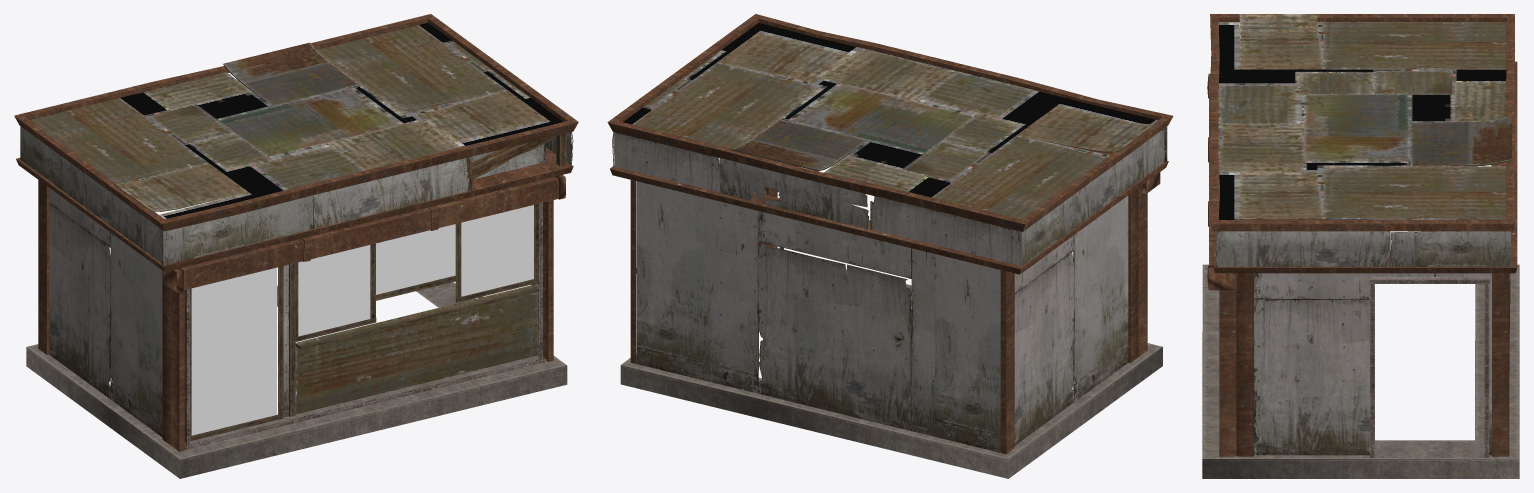
Rendered from rentable_shop_b_exterior.glb.
3 renders of one model, left to right at view 1: azimuth 30°, elevation 25°; view 2: azimuth 150°, elevation 25°; view 3: azimuth 270°, elevation 25°, orthographic. The views are drawn at different scales.
Visible parts, largest first — view 1: rentable_shop_B_exterior_LOD0; view 2: rentable_shop_B_exterior_LOD0; view 3: rentable_shop_B_exterior_LOD0.
Part boxes in pixels (left/top/right/bottom): rentable_shop_B_exterior_LOD0: left=14, top=14, right=578, bottom=478; rentable_shop_B_exterior_LOD0: left=607, top=14, right=1173, bottom=478; rentable_shop_B_exterior_LOD0: left=1202, top=14, right=1519, bottom=478.
Size of the model in its own units: 5.45 by 3.22 by 3.49.
4 materials, 3 textured.
